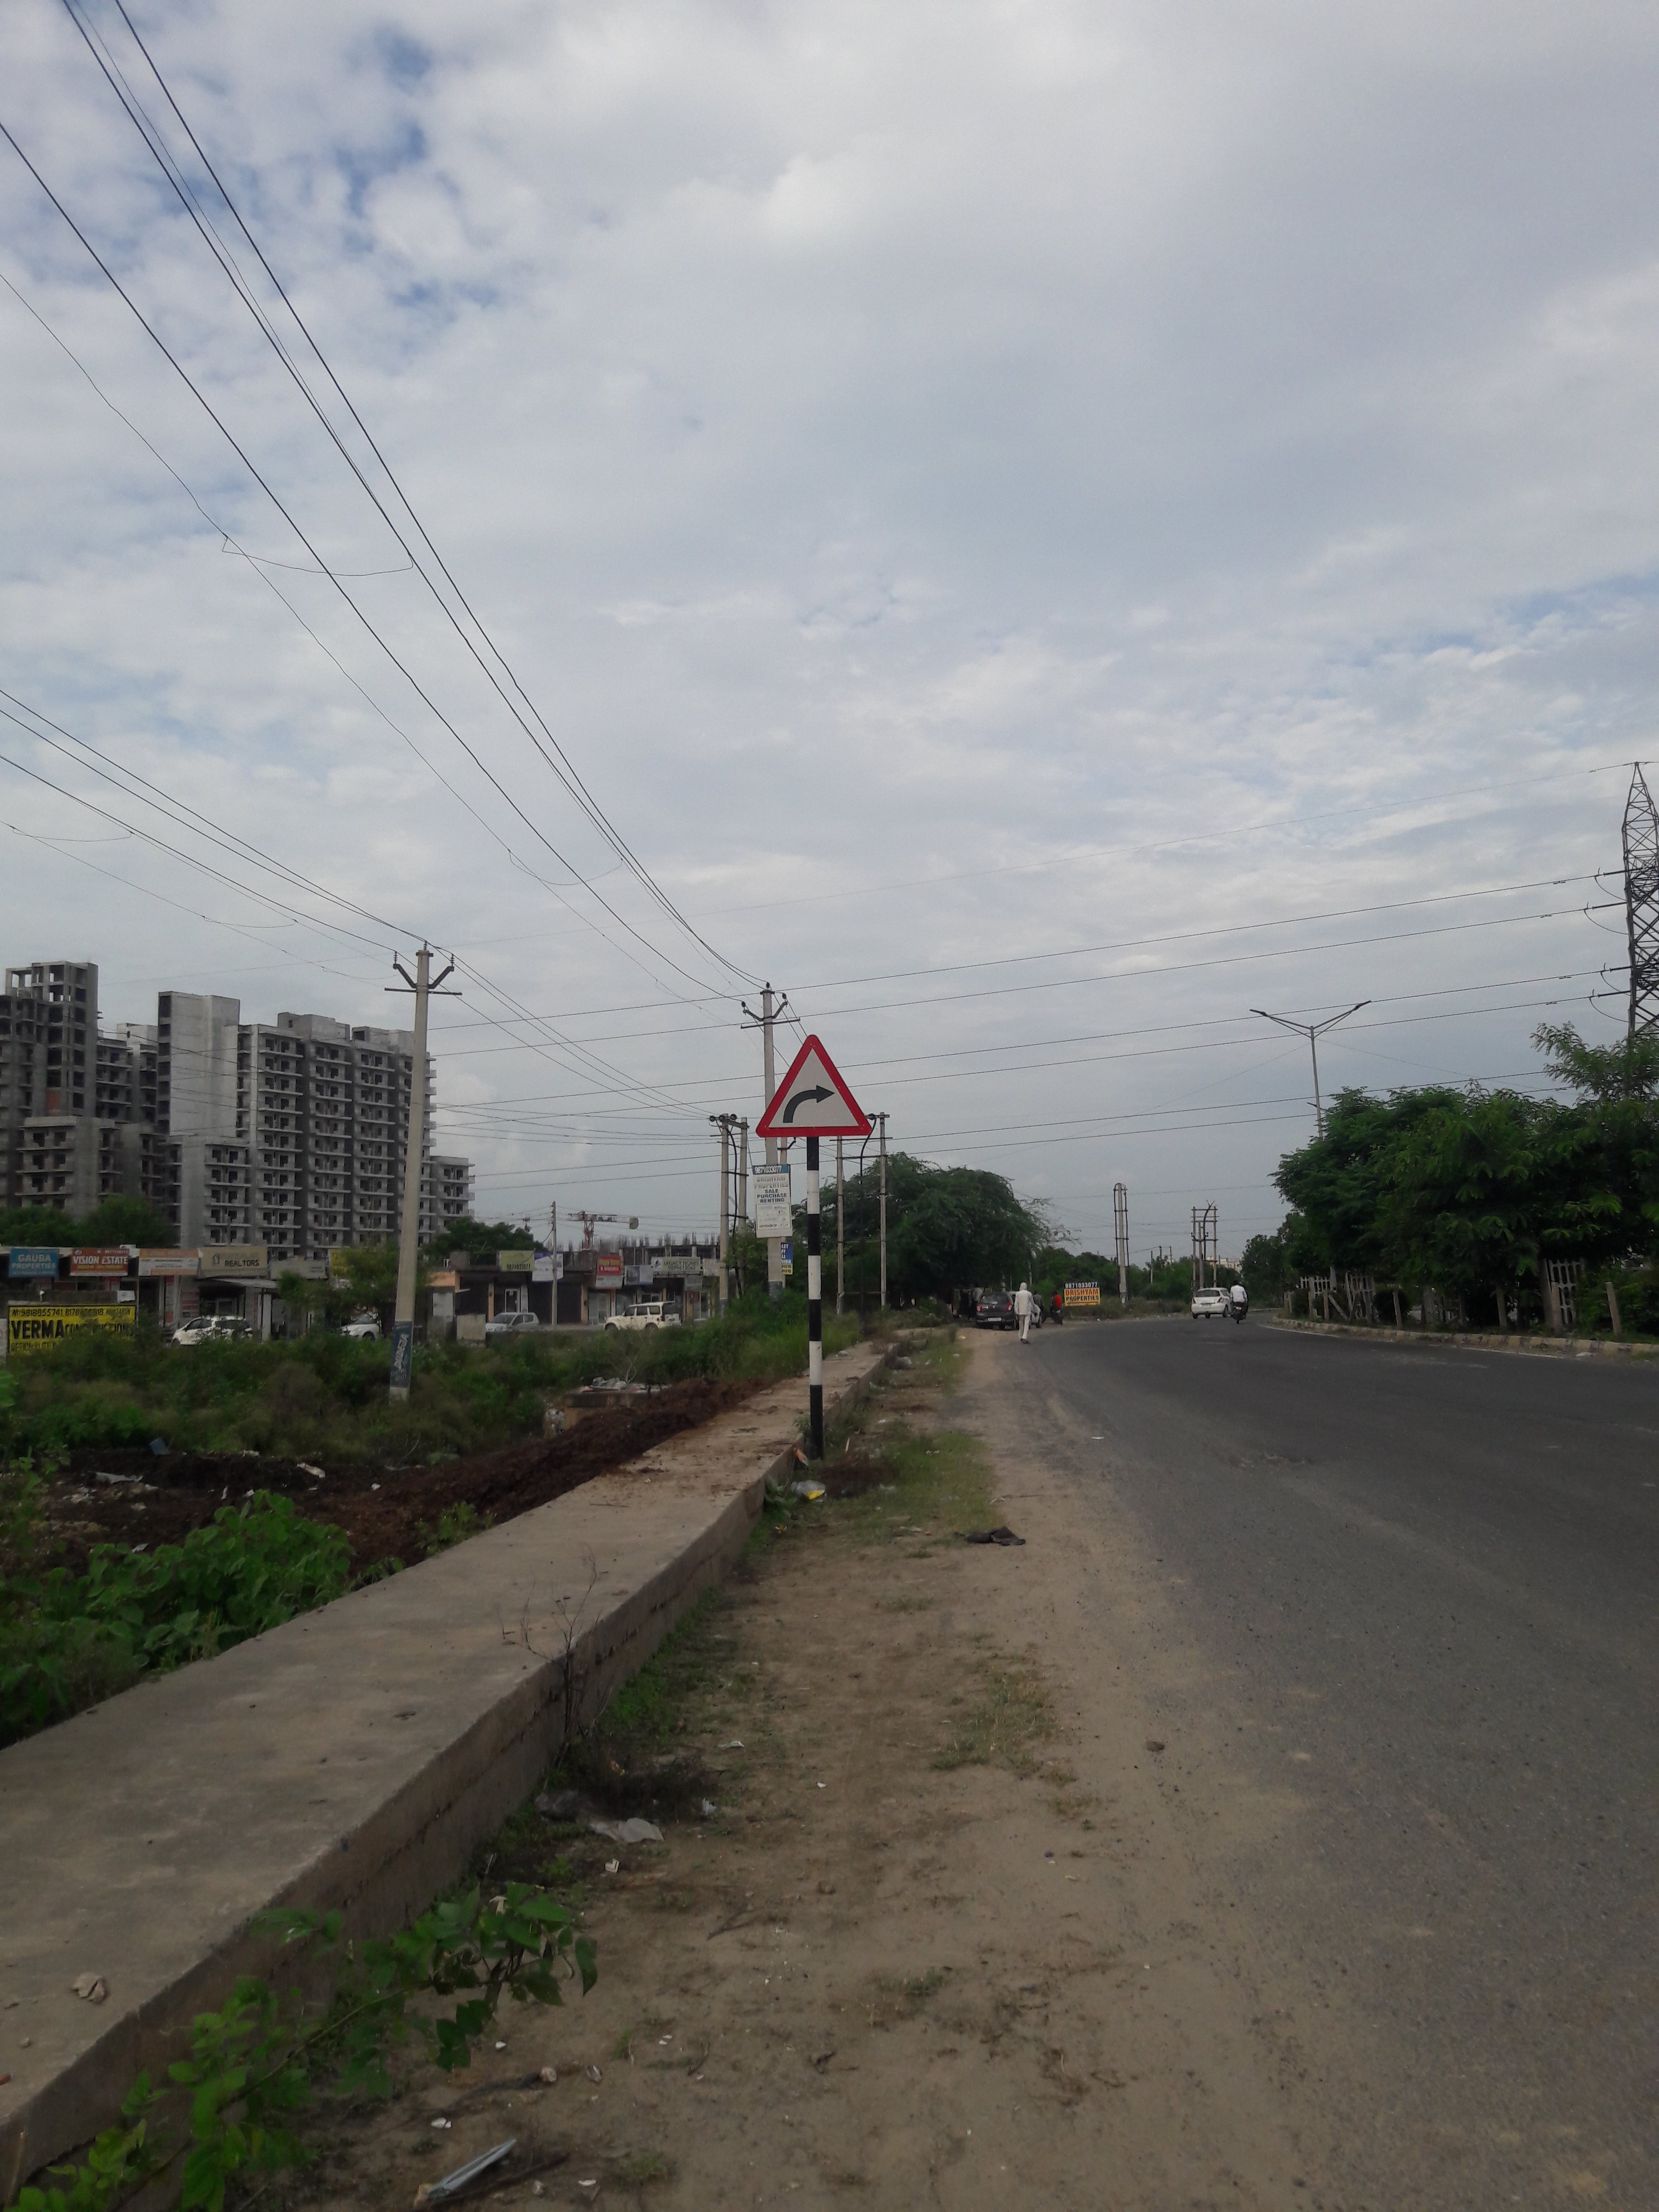traffic_sign: (756, 1035, 873, 1139)
